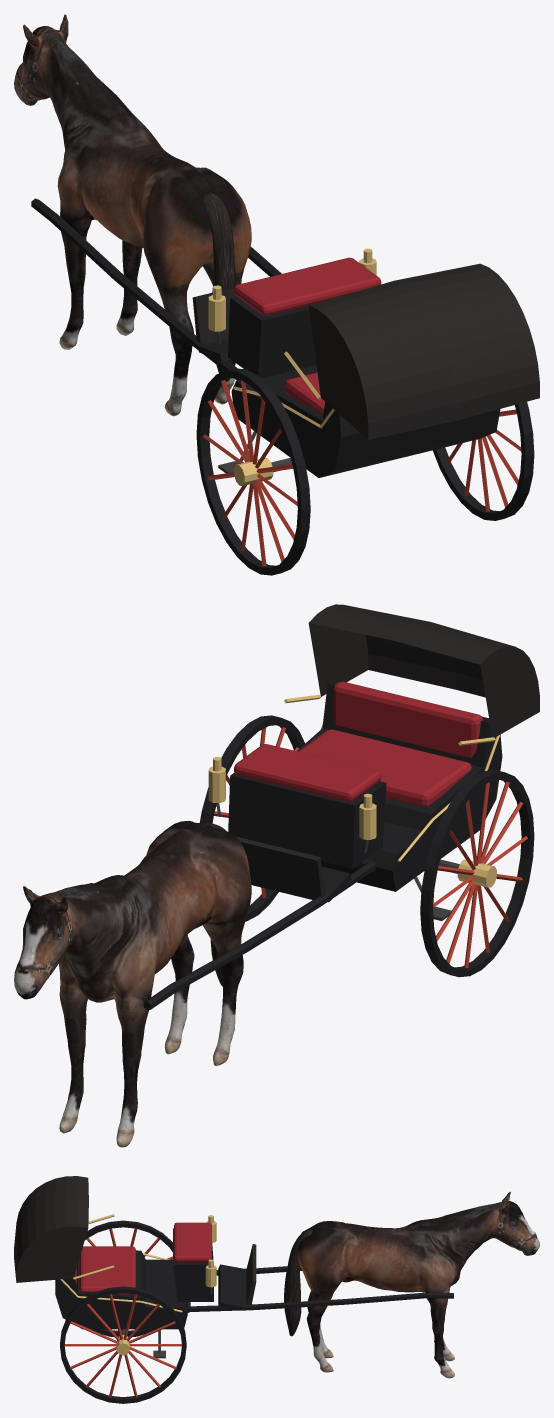
The model's file is hantour.glb.
The picture shows the model from 3 angles, top to bottom: view 1: azimuth 30°, elevation 25°; view 2: azimuth 150°, elevation 25°; view 3: azimuth 270°, elevation 25°; orthographic projection. The views are drawn at different scales.
Visible parts, largest first — view 1: carriage, horse, wheel_L, wheel_R, horse_tail; view 2: carriage, horse, wheel_L, wheel_R; view 3: carriage, horse, wheel_R, horse_tail, wheel_L.
Boxes of the visible parts, <box> form: carriage: <box>31,198,539,477</box>; horse: <box>14,14,251,416</box>; wheel_L: <box>196,368,310,575</box>; wheel_R: <box>433,402,534,520</box>; horse_tail: <box>202,193,236,381</box>; carriage: <box>143,604,539,1010</box>; horse: <box>14,820,251,1147</box>; wheel_L: <box>420,770,534,977</box>; wheel_R: <box>199,715,304,921</box>; carriage: <box>14,1176,453,1358</box>; horse: <box>298,1191,539,1378</box>; wheel_R: <box>60,1286,186,1403</box>; horse_tail: <box>284,1229,312,1336</box>; wheel_L: <box>85,1220,172,1336</box>.
Size of the model in its own units: 1.94 by 2.1 by 5.81.
Materials: 3 (3 with a texture image).
